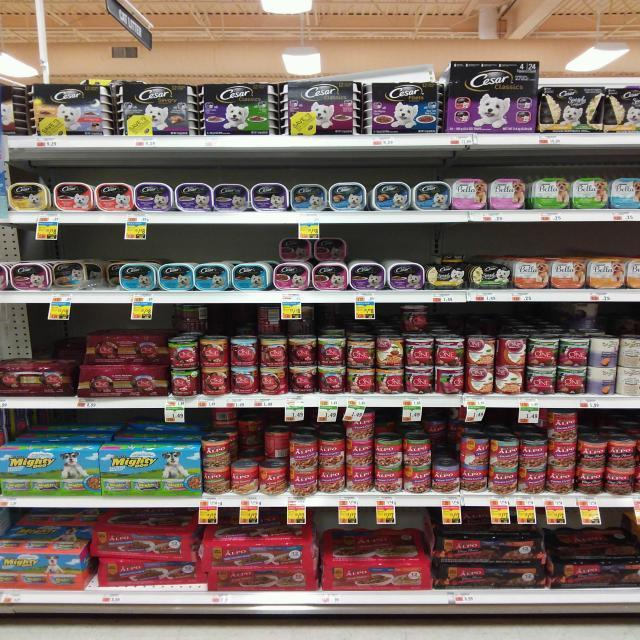Imprecise: (255, 304, 319, 394), (426, 402, 487, 493), (206, 404, 266, 489), (270, 232, 349, 292), (571, 302, 618, 396), (170, 300, 213, 389), (400, 302, 433, 396), (56, 262, 121, 286)
